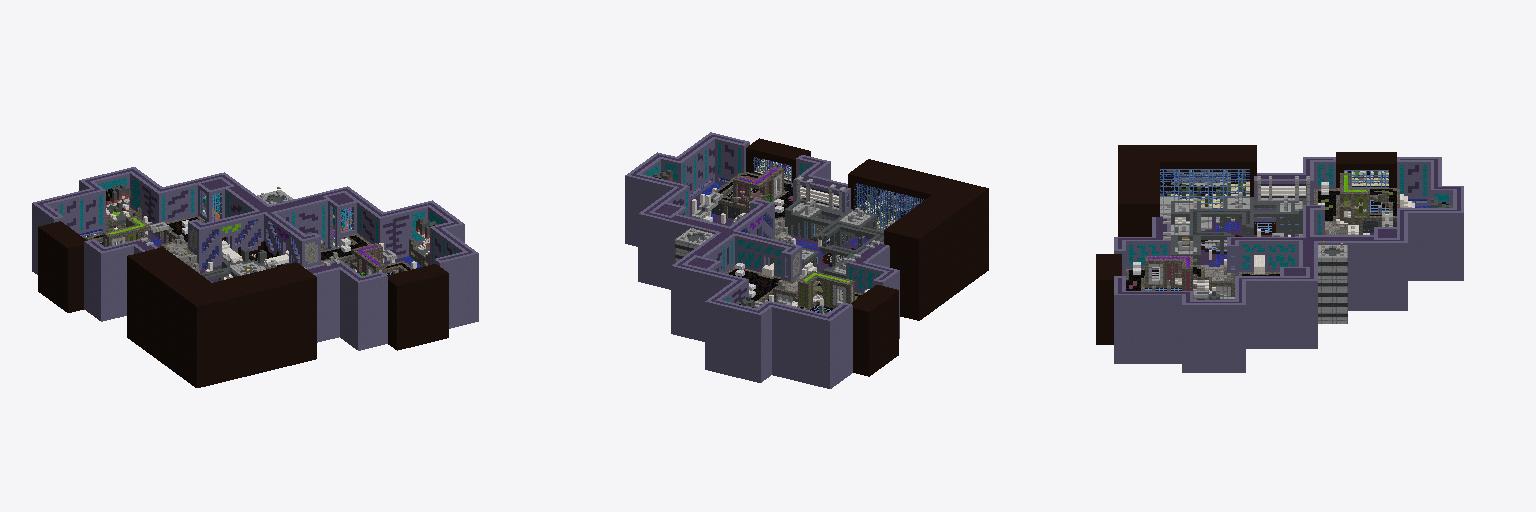
3 views of the same model, side by side, from view 1: azimuth 30°, elevation 25°; view 2: azimuth 150°, elevation 25°; view 3: azimuth 270°, elevation 25° (orthographic).
Size of the model in its own units: 98 by 25 by 98.
Materials: 66 (64 with a texture image).